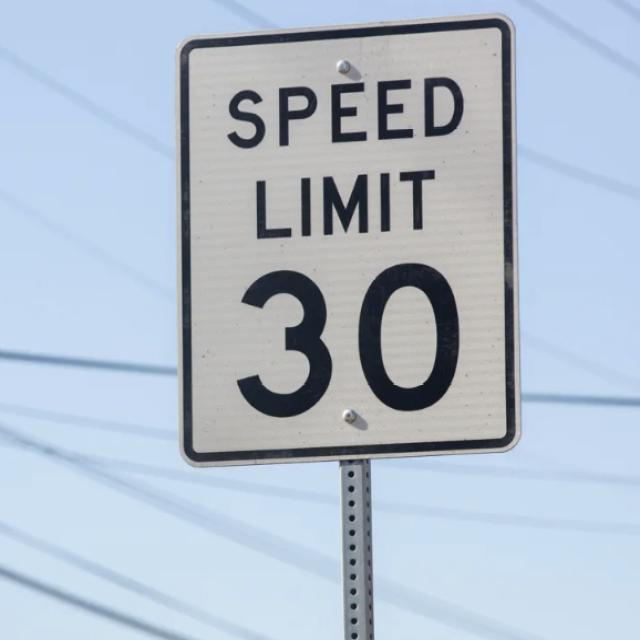speedLimit30: (190, 34, 503, 454)
